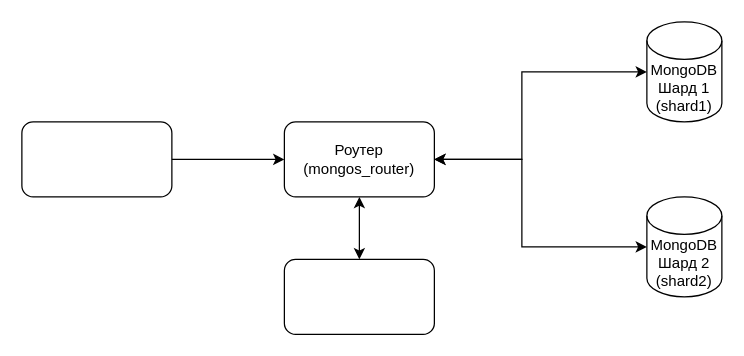
The diagram is 744 pixels wide and 356 high, and some of its shapes have lost their labels. Here are the shapes that lost their labels. From the top down, the centre of each, then its label:
At (x=96, y=159): "pymongo-api".
At (x=358, y=296): "Сервер конфигурации (configSrv)".
